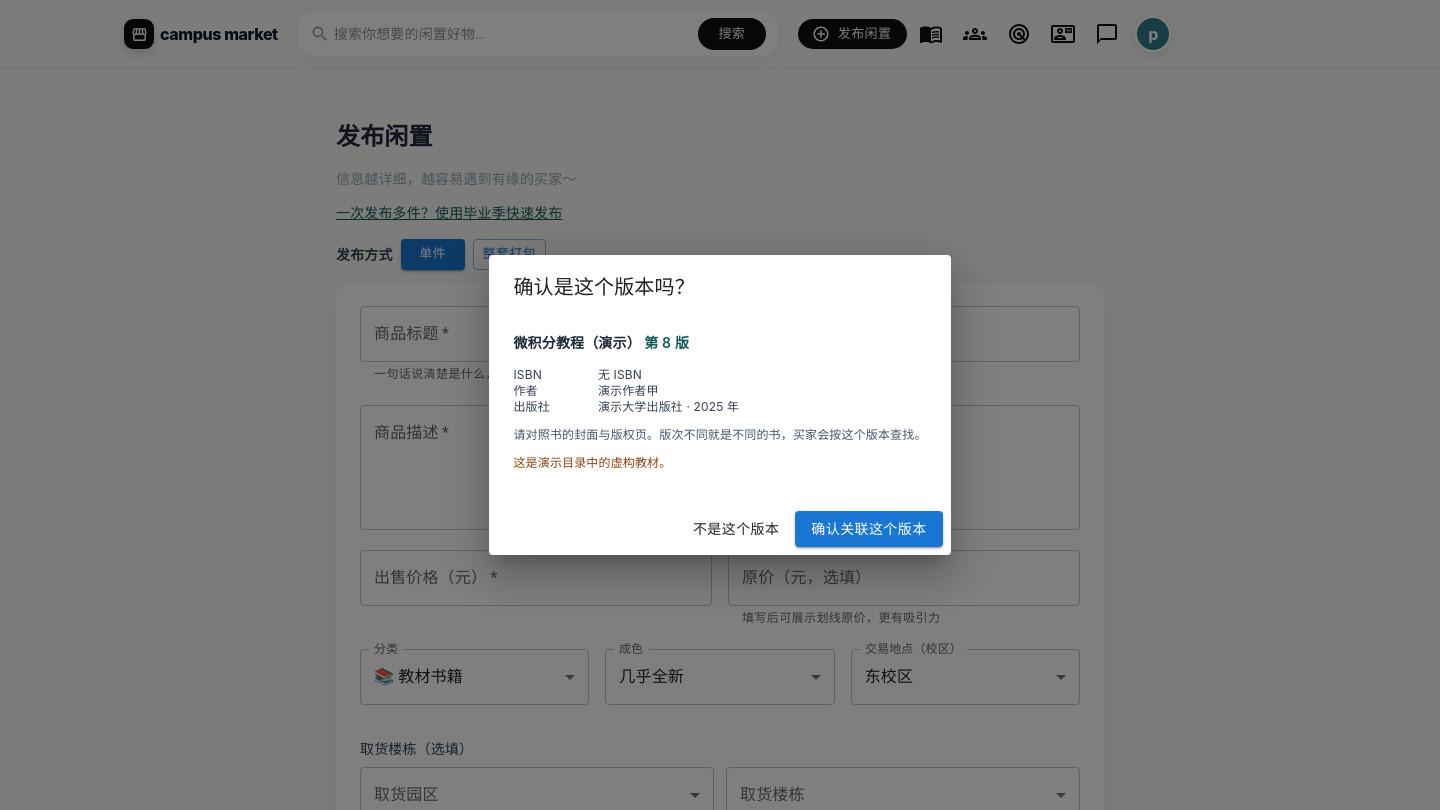
Test case: 发布教材商品（端到端） › 预先打开的确认框选「不是这个版本」后不关联，也不会再次弹出
Click the button "不是这个版本" at point(736, 529), box [685,511,787,547]
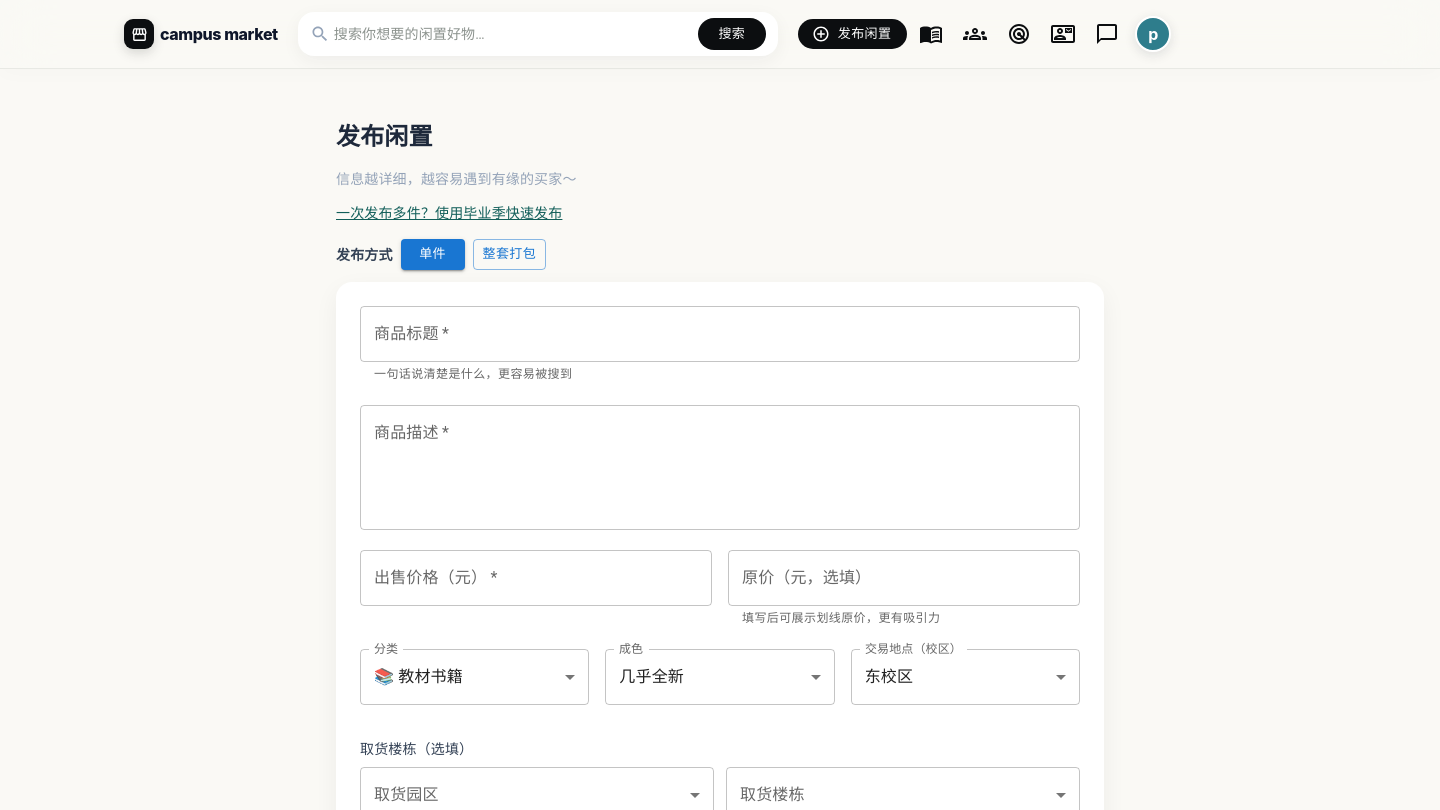
Check: the dialog is gone
